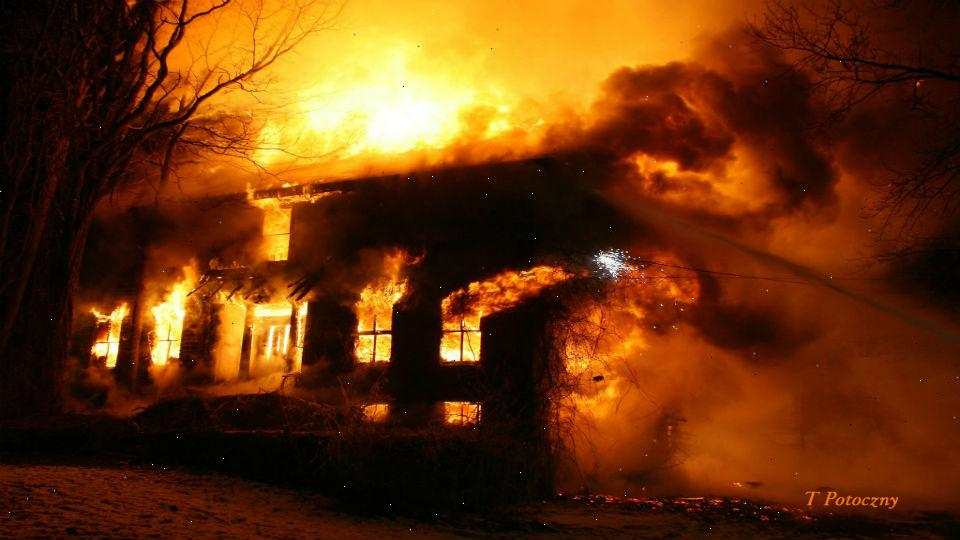fire: (441, 256, 553, 335), (573, 313, 638, 418), (240, 287, 312, 373), (136, 269, 192, 363), (249, 183, 304, 257), (355, 257, 411, 328), (82, 305, 134, 370), (442, 400, 482, 425)
smoke: (639, 240, 960, 490), (548, 55, 832, 238)
